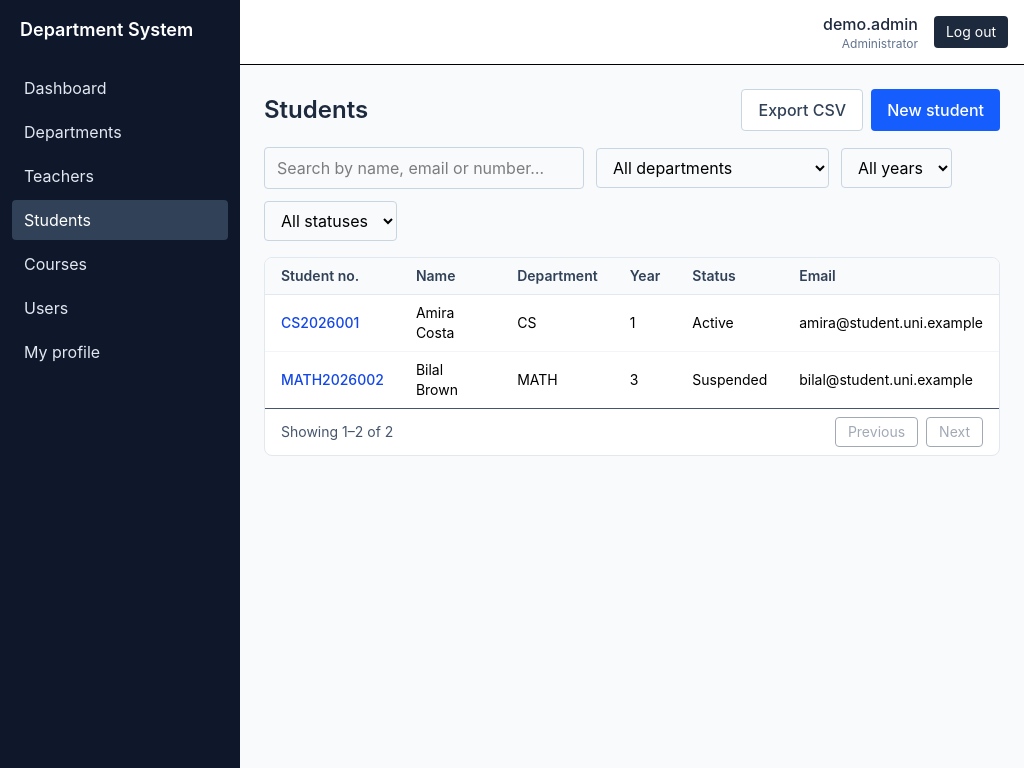
Test: FR-4.1 list, search and filter › says when no student matches
Check: the table named "Students" is shown, box x1=265 y1=258 x2=999 y2=408
Select "Year 6" in the 2nd dropdown named "Year" at (896, 168), box x1=841 y1=148 x2=952 y2=188
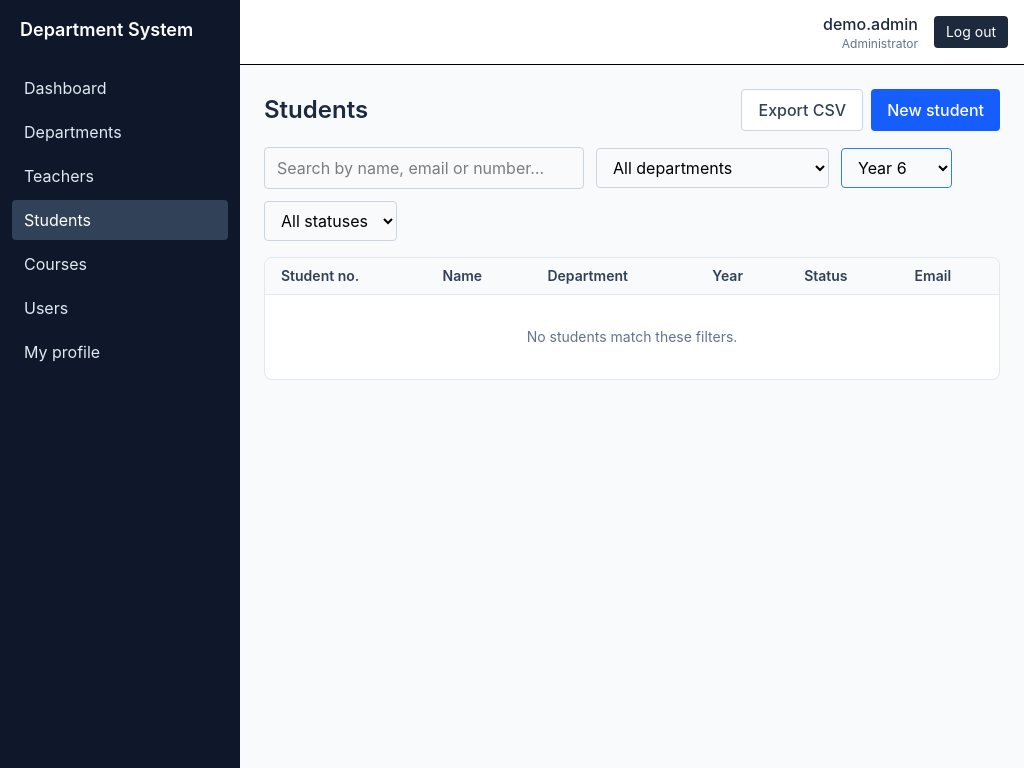
Check: the cell "No students match these filters." is shown, box x1=265 y1=295 x2=999 y2=379
